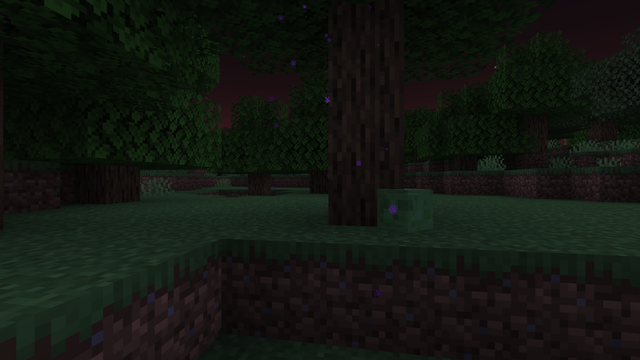slimes: (382, 187, 429, 232)
